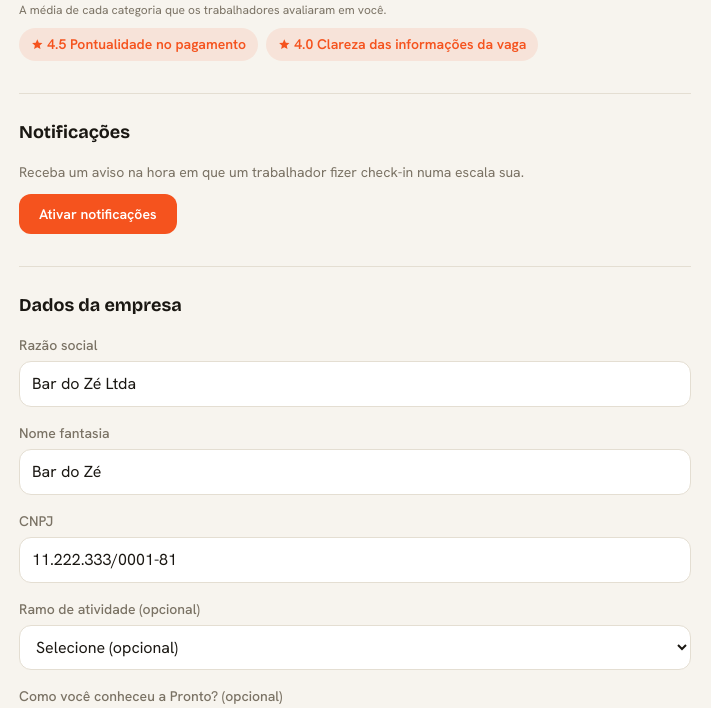
PerfilPage › salva os dados da empresa com os valores editados
(page scrolled)
Replace the text in the field labelled "Razão social" with "Bar do Zé Eventos Ltda" at (355, 384), box x1=19 y1=361 x2=691 y2=407
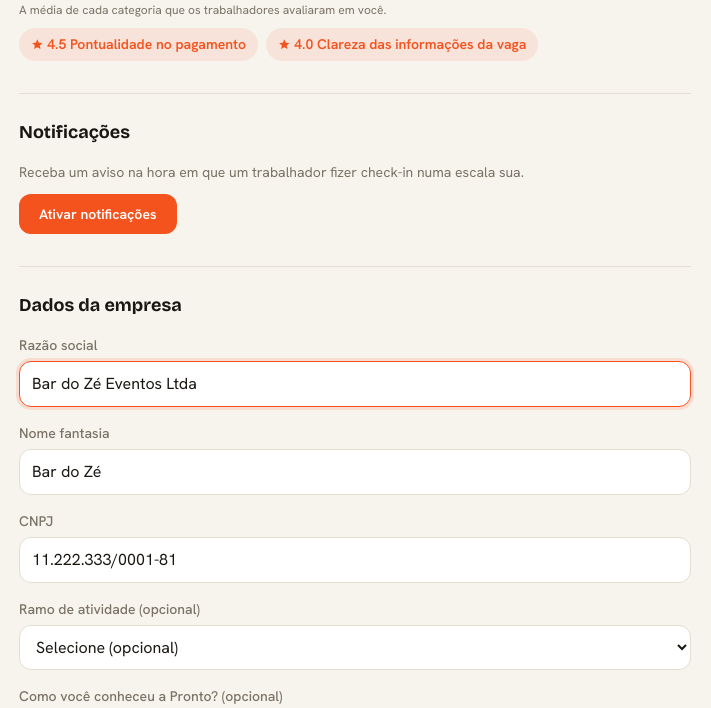
Select "Bar" in the dropdown labelled "Ramo de atividade (opcional)" at (355, 648), box x1=19 y1=625 x2=691 y2=670
(page scrolled)
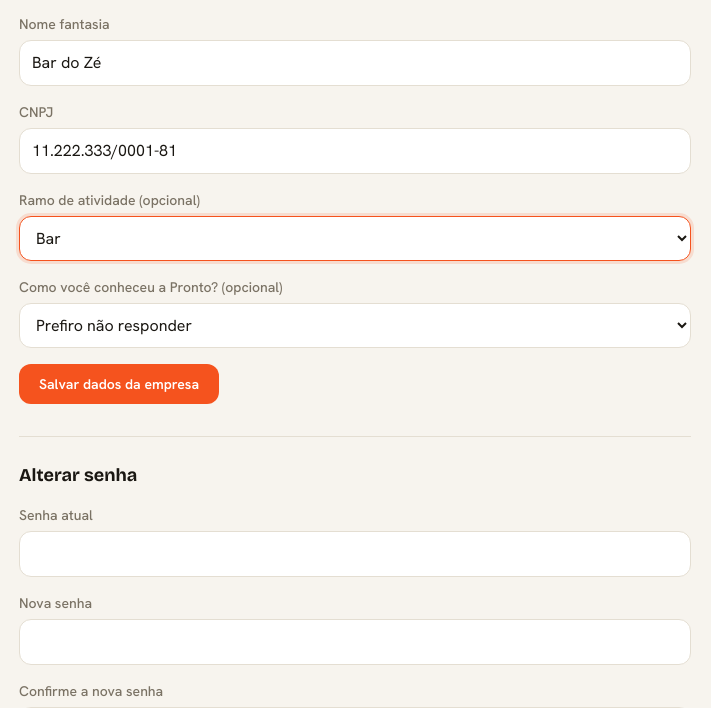
Click the button "Salvar dados da empresa" at (119, 384), box x1=19 y1=364 x2=219 y2=404
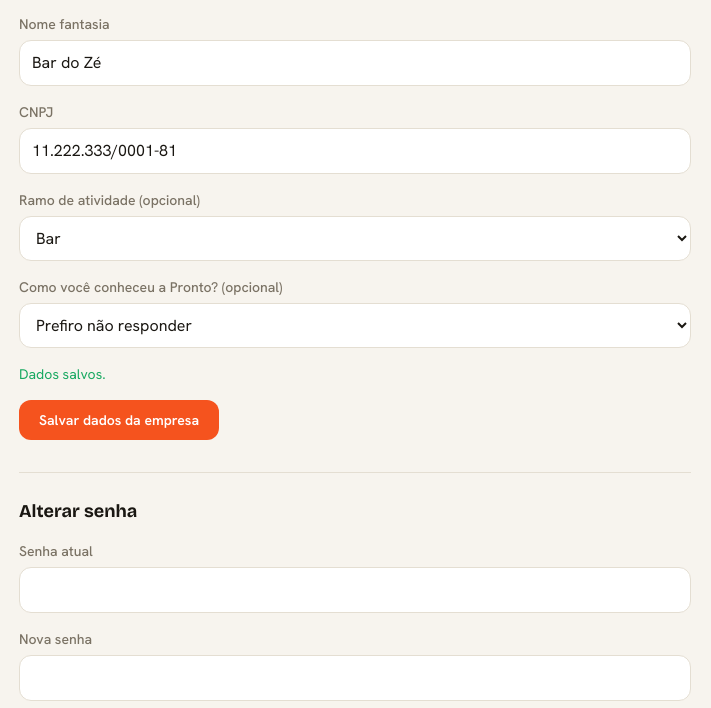
Expected: the text "Dados salvos." is shown, x1=19 y1=365 x2=106 y2=383
